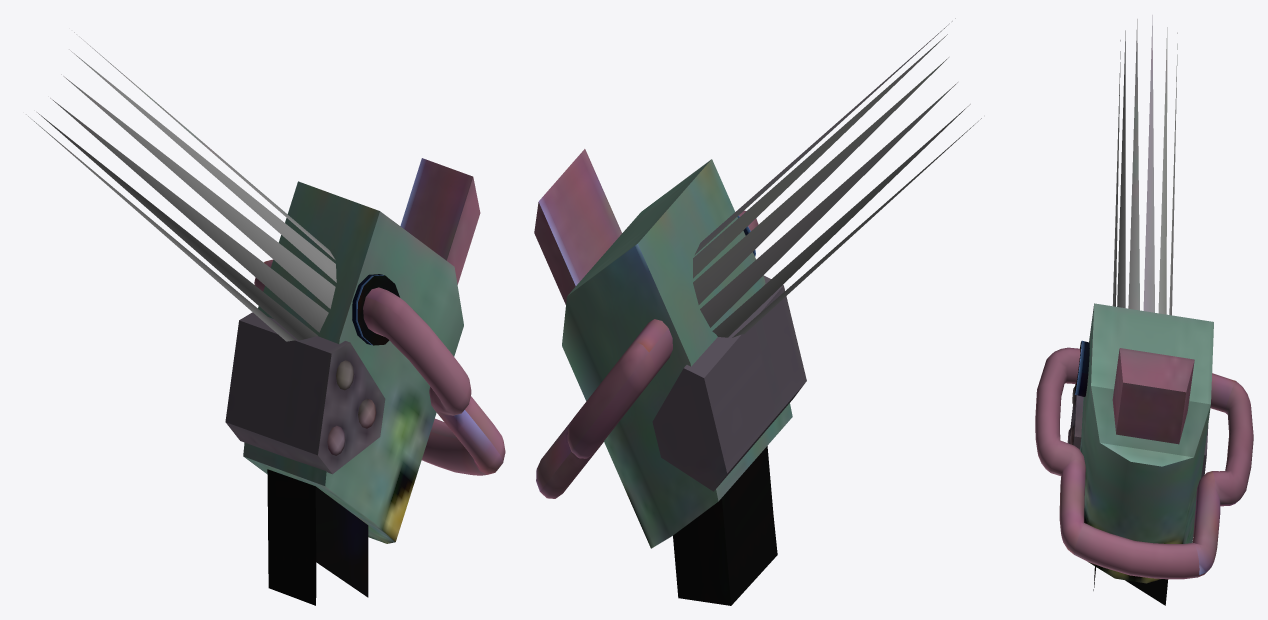
Rendered from j3ff_upperarm_l.glb.
3 views of the same model, side by side, from view 1: azimuth 30°, elevation 25°; view 2: azimuth 150°, elevation 25°; view 3: azimuth 270°, elevation 25° (orthographic). The views are drawn at different scales.
Parts seen in each view (by area): view 1: j3ff; view 2: j3ff; view 3: j3ff.
Boxes of the visible parts, bbox=[...] form: j3ff: bbox=[26, 32, 505, 605]; j3ff: bbox=[534, 18, 981, 605]; j3ff: bbox=[1035, 15, 1253, 605].
Size of the model in its own units: 19.01 by 26.26 by 10.6.
1 material, 1 textured.
